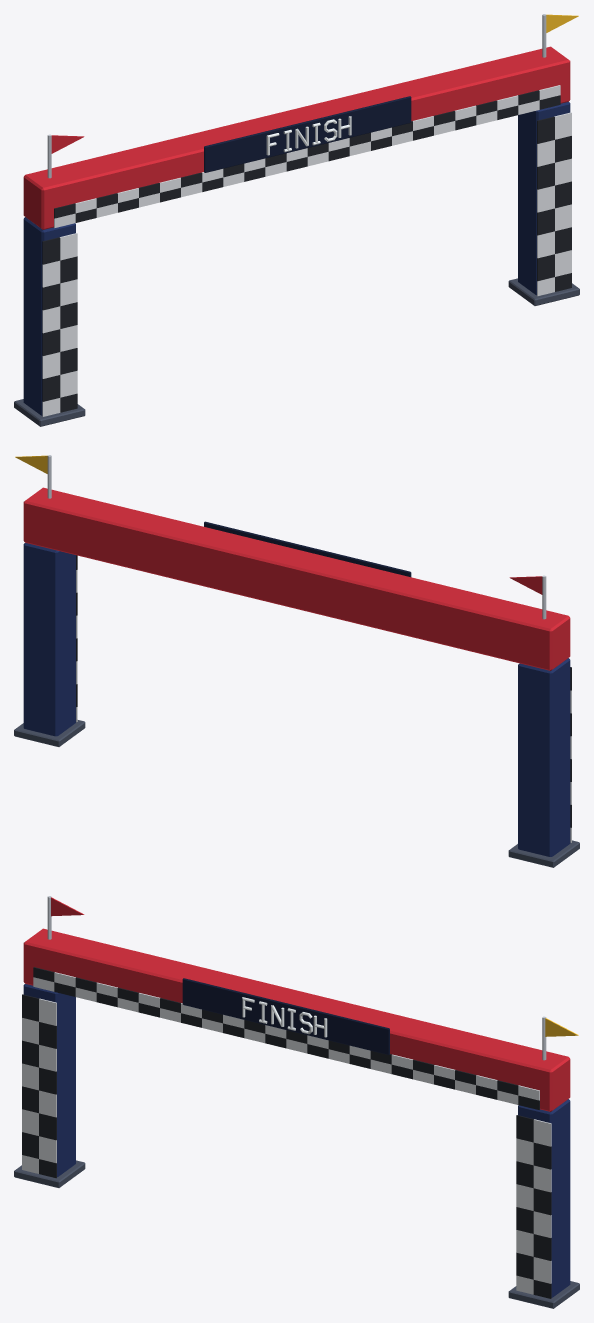
File: FinishArch.fbx
3 views of the same model, one above another, from view 1: azimuth 30°, elevation 25°; view 2: azimuth 150°, elevation 25°; view 3: azimuth 330°, elevation 25° (orthographic).
Parts seen in each view (by area): view 1: FinishArch, Neon_White; view 2: FinishArch; view 3: FinishArch, Neon_White.
Boxes of the visible parts, x1,y1,x2,y2 form: FinishArch: (14, 14, 579, 426); Neon_White: (266, 116, 351, 155); FinishArch: (14, 455, 579, 867); FinishArch: (14, 896, 579, 1308); Neon_White: (242, 997, 327, 1037).
Bounding box in the file's own units: 48 × 23.05 × 4.
Materials: 2 (1 with a texture image).
